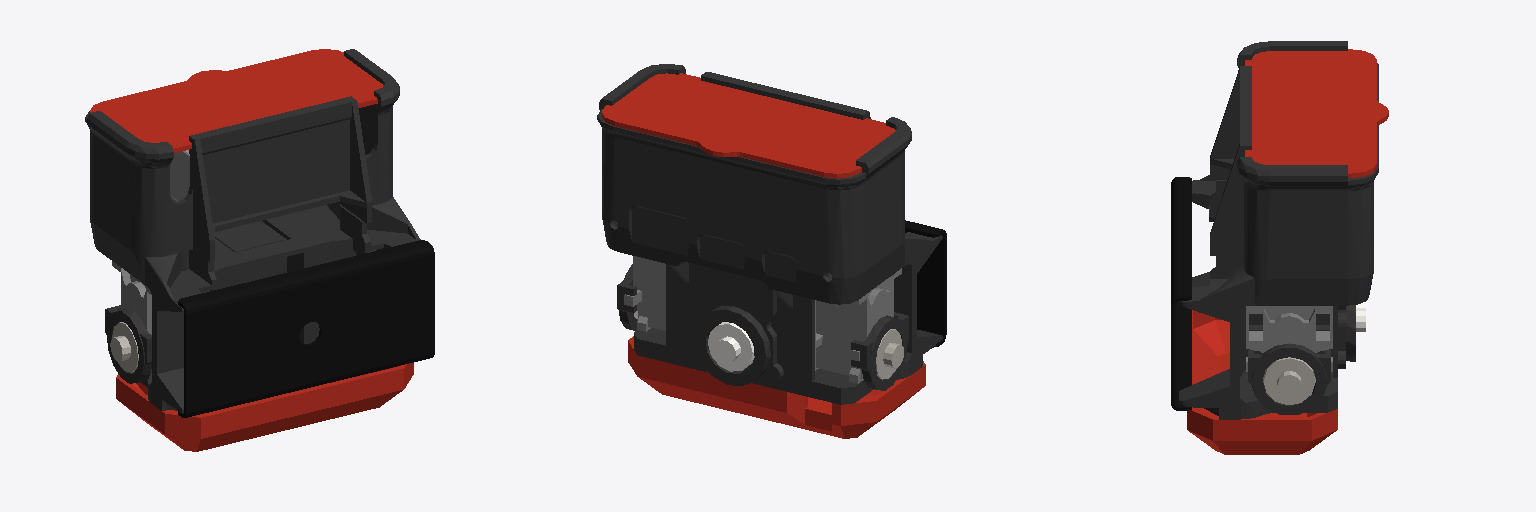
3 renders of one model, left to right at view 1: azimuth 30°, elevation 25°; view 2: azimuth 150°, elevation 25°; view 3: azimuth 270°, elevation 25°, orthographic.
Parts seen in each view (by area): view 1: Body2, Body14, Body10, Body11, Body12, Body8, Body4, Body5, Body32; view 2: Body2, Body10, Body11, Body4, Body14, Body24, Body8, Body13, Body5, Body7; view 3: Body2, Body10, Body11, Body14, Body24, Body7, Body23.
Boxes of the visible parts, x1=… form: Body2: x1=85, y1=49, x2=420, y2=412; Body14: x1=178, y1=240, x2=434, y2=417; Body10: x1=90, y1=49, x2=383, y2=152; Body11: x1=116, y1=363, x2=413, y2=451; Body12: x1=215, y1=221, x2=286, y2=281; Body8: x1=105, y1=305, x2=151, y2=383; Body4: x1=112, y1=261, x2=151, y2=372; Body5: x1=110, y1=322, x2=138, y2=372; Body32: x1=170, y1=150, x2=189, y2=201; Body2: x1=597, y1=64, x2=942, y2=404; Body10: x1=602, y1=73, x2=895, y2=178; Body11: x1=628, y1=336, x2=925, y2=438; Body4: x1=815, y1=268, x2=901, y2=383; Body14: x1=905, y1=220, x2=946, y2=347; Body24: x1=624, y1=256, x2=665, y2=331; Body8: x1=851, y1=312, x2=908, y2=390; Body13: x1=708, y1=322, x2=754, y2=371; Body5: x1=875, y1=329, x2=903, y2=379; Body7: x1=617, y1=264, x2=637, y2=330; Body2: x1=1179, y1=41, x2=1378, y2=419; Body10: x1=1245, y1=49, x2=1388, y2=177; Body11: x1=1187, y1=310, x2=1337, y2=454; Body14: x1=1171, y1=177, x2=1191, y2=410; Body24: x1=1246, y1=306, x2=1332, y2=385; Body7: x1=1248, y1=343, x2=1330, y2=414; Body23: x1=1263, y1=357, x2=1315, y2=404.
Size of the model in its own units: 0.1195 by 0.1271 by 0.0837.